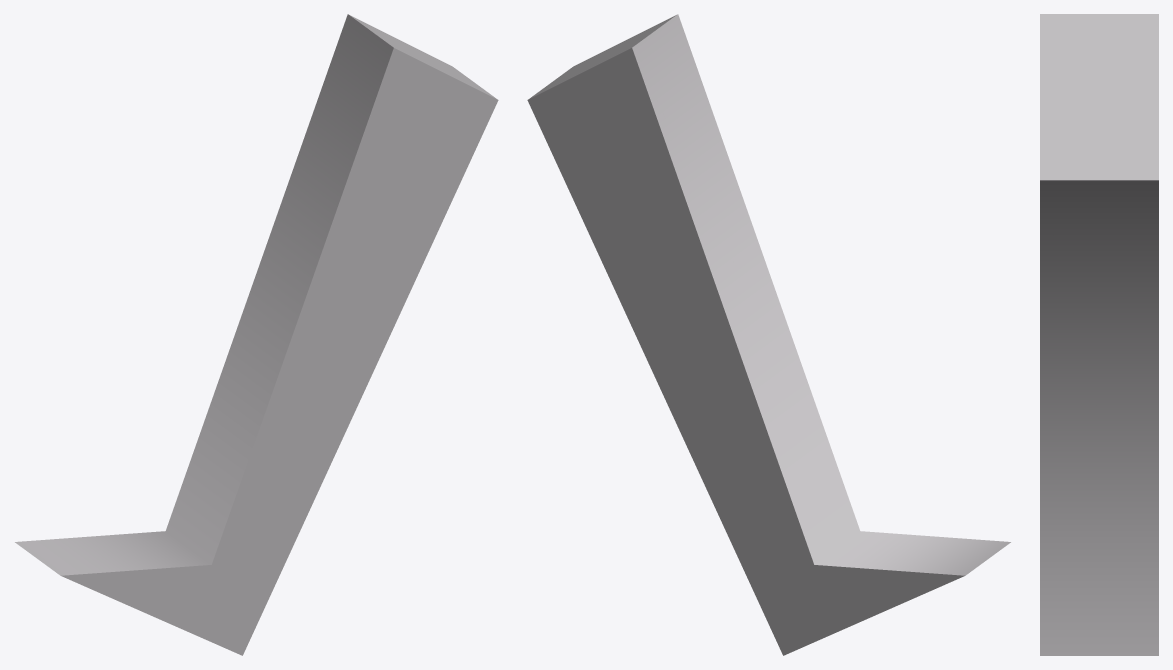
Rendered from dustCharacter_legRun2.fbx.
3 renders of one model, left to right at view 1: azimuth 30°, elevation 25°; view 2: azimuth 150°, elevation 25°; view 3: azimuth 270°, elevation 25°, orthographic. The views are drawn at different scales.
Visible parts, largest first — view 1: mesh_id37; view 2: mesh_id37; view 3: mesh_id37.
Boxes of the visible parts, x1,y1,x2,y2 form: mesh_id37: (15,14,498,655); mesh_id37: (527,14,1010,655); mesh_id37: (1040,14,1158,655).
Bounding box in the file's own units: 81.42 × 101 × 14.84.
1 material, 1 textured.
